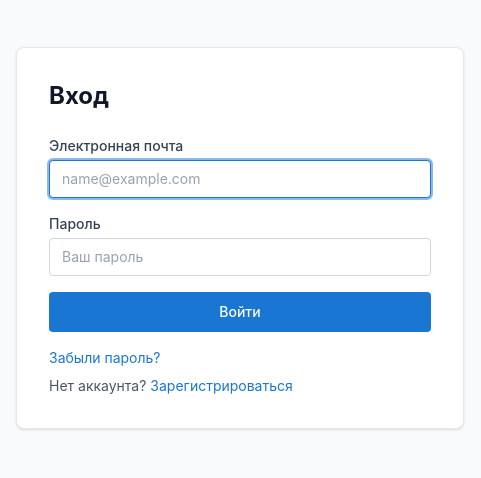
Test case: LoginPage (US5 — authentication) › surfaces unknown ApiError message as-is (passes server text)
Type "u@e.com" into the field labelled "Электронная почта" at (240,179), box [49, 160, 431, 198]
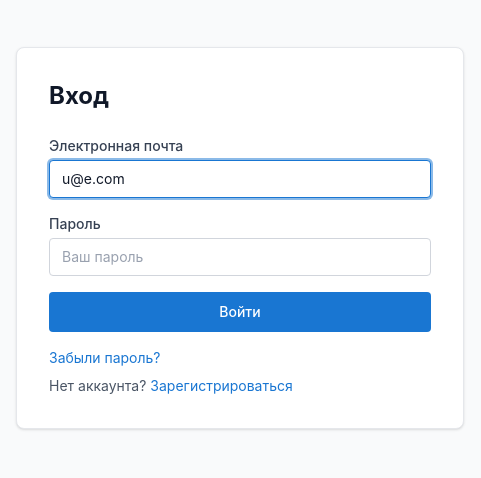
Type "pw" into the password field labelled "Пароль" at (240,257), box [49, 238, 431, 276]
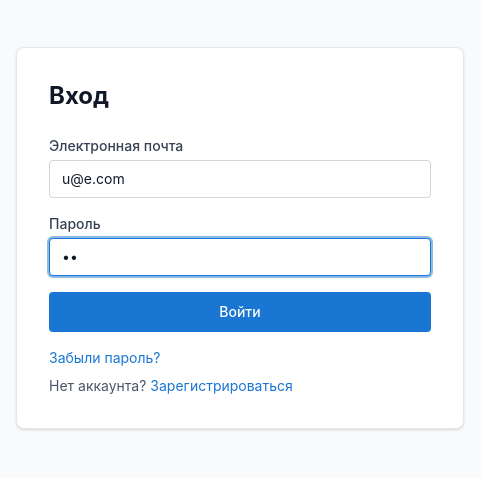
Click the button "Войти" at (240,312), box [49, 292, 431, 332]
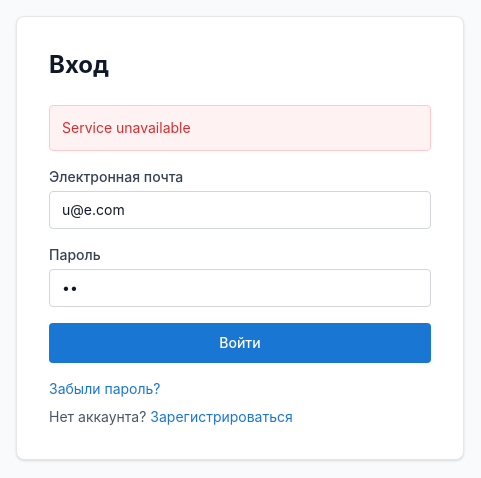
Check: the message reads "Service unavailable", box [62, 119, 191, 136]
